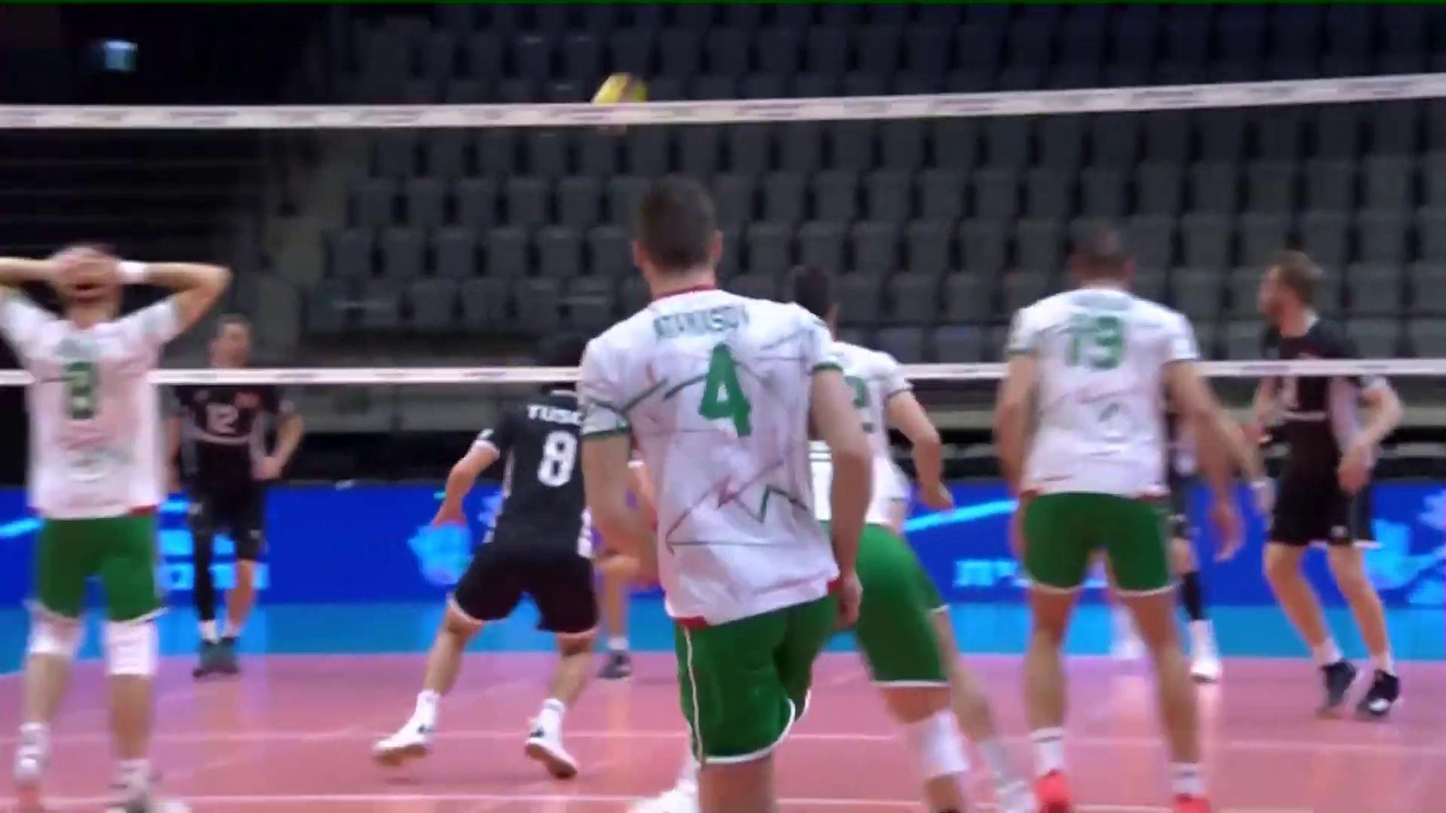ball: (585, 72, 655, 103)
